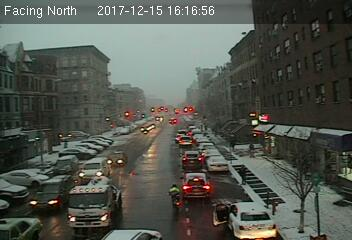bicycle: (167, 183, 184, 216)
car: (217, 201, 276, 238), (27, 175, 74, 213), (1, 216, 45, 240), (180, 172, 211, 199), (78, 158, 109, 179), (180, 152, 204, 168), (207, 155, 229, 171), (106, 152, 128, 166), (178, 136, 192, 145)
truck: (67, 180, 122, 232)
